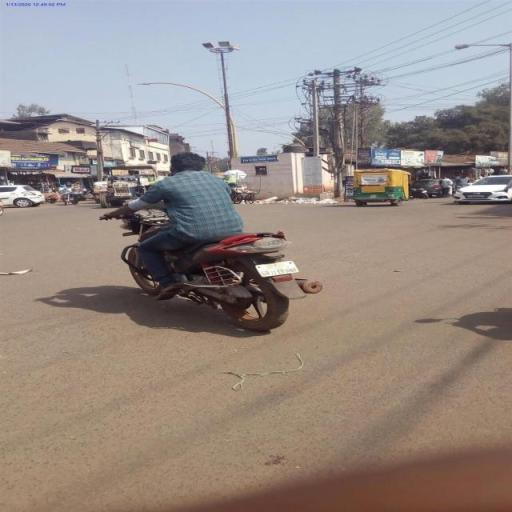using mobile: (200, 169, 210, 173)
